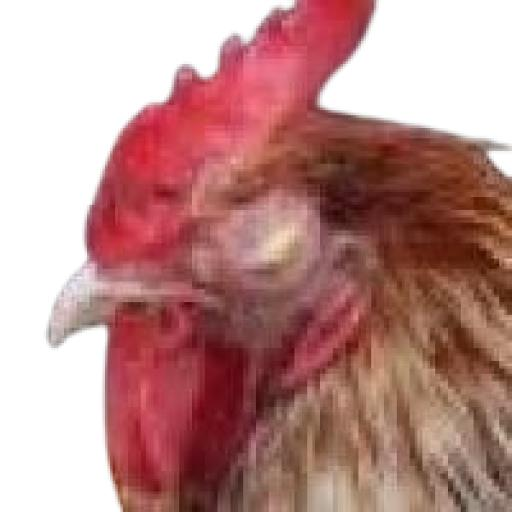disease: (144, 152, 360, 345), (106, 0, 320, 96)
